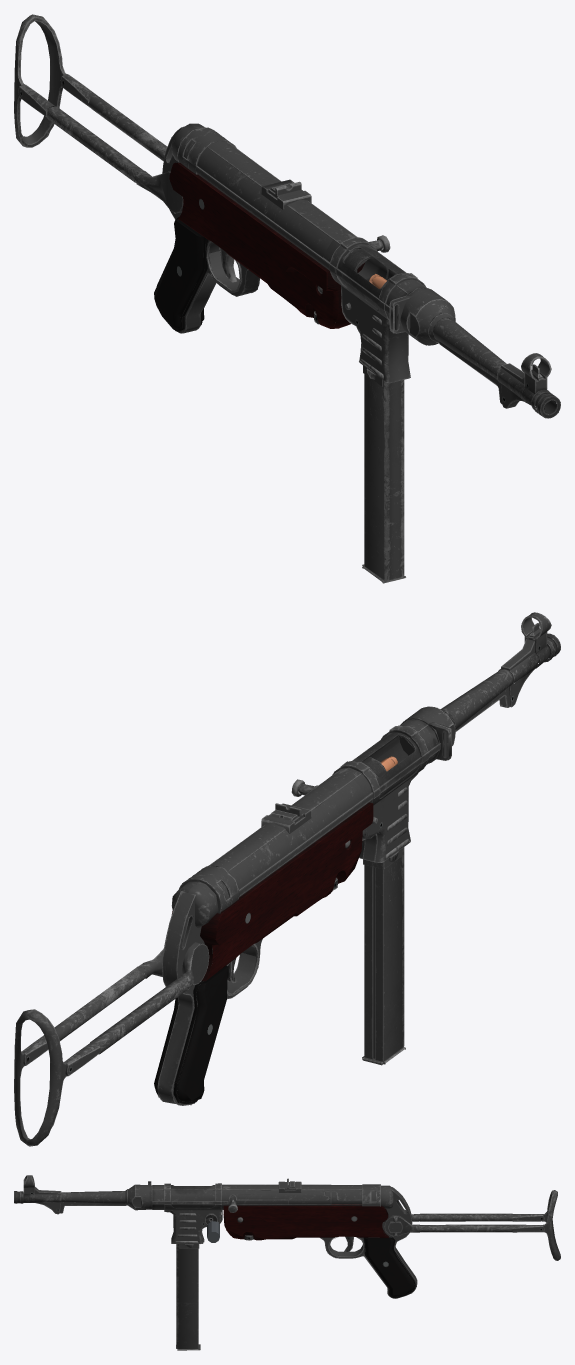
Rendered from aurora_mp40.glb.
3 renders of one model, top to bottom at view 1: azimuth 30°, elevation 25°; view 2: azimuth 150°, elevation 25°; view 3: azimuth 270°, elevation 25°, orthographic. The views are drawn at different scales.
Visible parts, largest first — view 1: Receiver, Magazine; view 2: Receiver, Magazine; view 3: Receiver, Magazine, ChargingHandle.
Boxes of the visible parts, x1=… form: Receiver: x1=14, y1=14, x2=560, y2=418; Magazine: x1=362, y1=274, x2=405, y2=583; Receiver: x1=14, y1=612, x2=560, y2=1146; Magazine: x1=362, y1=756, x2=405, y2=1065; Receiver: x1=14, y1=1175, x2=560, y2=1298; Magazine: x1=176, y1=1244, x2=200, y2=1350; ChargingHandle: x1=207, y1=1220, x2=219, y2=1242.
Size of the model in its own units: 0.074 by 0.2662 by 0.7661.
Materials: 2 (1 with a texture image).
